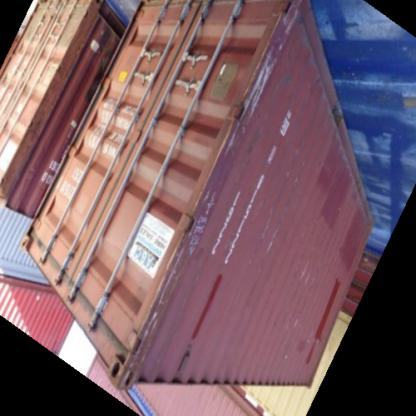Damage: (246, 44, 274, 126), (162, 236, 186, 297), (122, 346, 156, 379), (298, 259, 320, 291), (282, 5, 300, 44), (282, 160, 302, 194), (223, 116, 238, 157), (286, 302, 304, 333), (146, 310, 164, 340), (266, 224, 277, 266), (280, 346, 296, 366)
